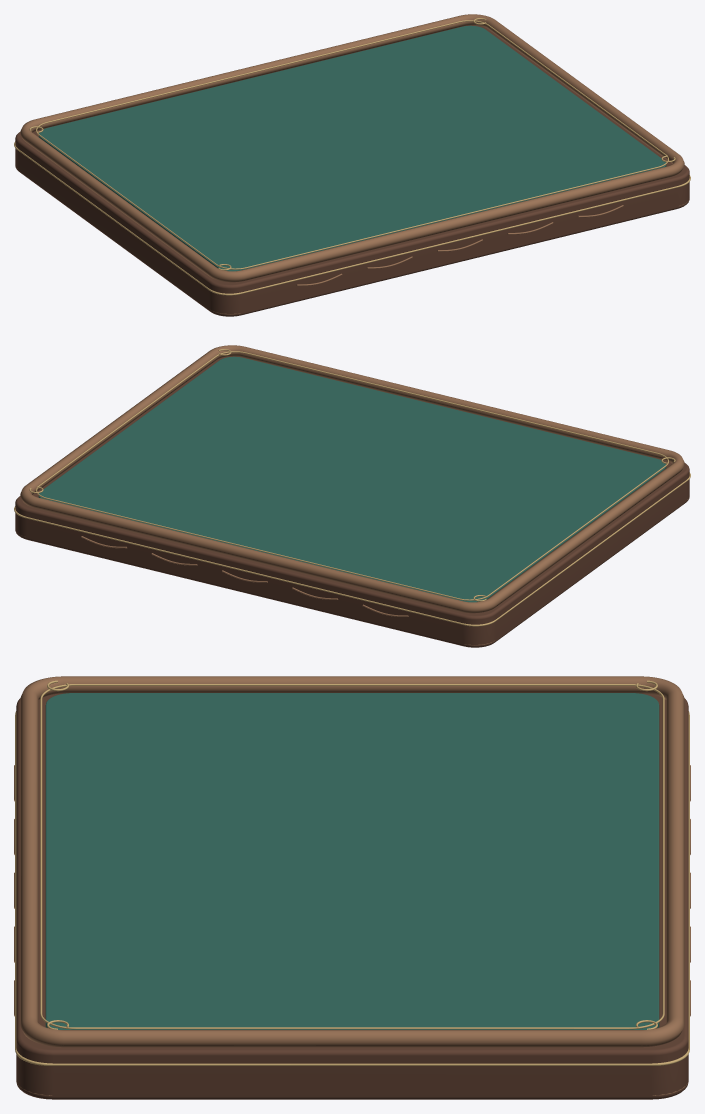
File: mahjong_table_atelier.glb
3 views of the same model, one above another, from view 1: azimuth 30°, elevation 25°; view 2: azimuth 150°, elevation 25°; view 3: azimuth 270°, elevation 25° (orthographic). The views are drawn at different scales.
Visible parts, largest first — view 1: mahjong_table_atelier__WovenClothJadeBaize, mahjong_table_atelier__Painted_mahjong_table_atelier_Glaze, mahjong_table_atelier__TaggedPainted_mahjong_table_atelier_M, mahjong_table_atelier__Painted_mahjong_table_atelier_Metal; view 2: mahjong_table_atelier__WovenClothJadeBaize, mahjong_table_atelier__Painted_mahjong_table_atelier_Glaze, mahjong_table_atelier__TaggedPainted_mahjong_table_atelier_M, mahjong_table_atelier__Painted_mahjong_table_atelier_Metal; view 3: mahjong_table_atelier__WovenClothJadeBaize, mahjong_table_atelier__Painted_mahjong_table_atelier_Glaze, mahjong_table_atelier__TaggedPainted_mahjong_table_atelier_M, mahjong_table_atelier__Painted_mahjong_table_atelier_Metal.
Boxes of the visible parts, x1,y1,x2,y2 form: mahjong_table_atelier__WovenClothJadeBaize: [38, 25, 666, 271]; mahjong_table_atelier__Painted_mahjong_table_atelier_Glaze: [15, 25, 689, 316]; mahjong_table_atelier__TaggedPainted_mahjong_table_atelier_M: [17, 14, 689, 314]; mahjong_table_atelier__Painted_mahjong_table_atelier_Metal: [14, 18, 690, 295]; mahjong_table_atelier__WovenClothJadeBaize: [38, 356, 666, 602]; mahjong_table_atelier__Painted_mahjong_table_atelier_Glaze: [15, 356, 689, 647]; mahjong_table_atelier__TaggedPainted_mahjong_table_atelier_M: [15, 345, 687, 645]; mahjong_table_atelier__Painted_mahjong_table_atelier_Metal: [14, 349, 690, 626]; mahjong_table_atelier__WovenClothJadeBaize: [45, 693, 659, 1029]; mahjong_table_atelier__Painted_mahjong_table_atelier_Glaze: [16, 693, 688, 1099]; mahjong_table_atelier__TaggedPainted_mahjong_table_atelier_M: [14, 676, 690, 1095]; mahjong_table_atelier__Painted_mahjong_table_atelier_Metal: [15, 680, 689, 1065].
Size of the model in its own units: 19.05 by 1.84 by 14.9.
